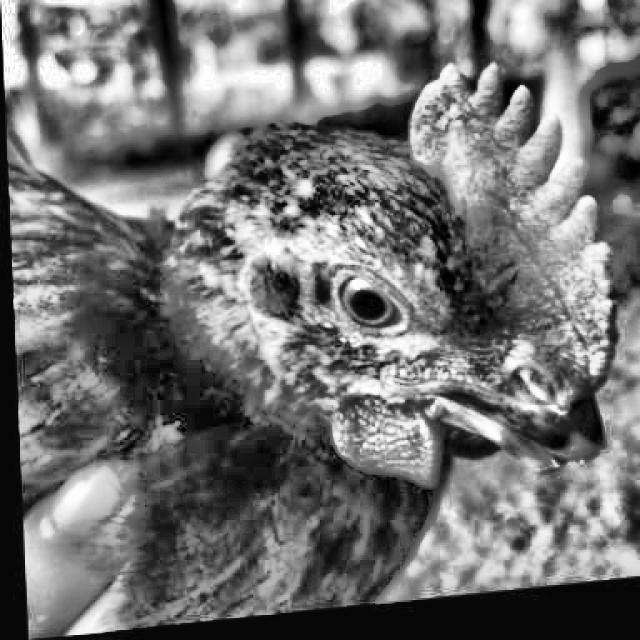Healthy: (325, 263, 420, 337)
